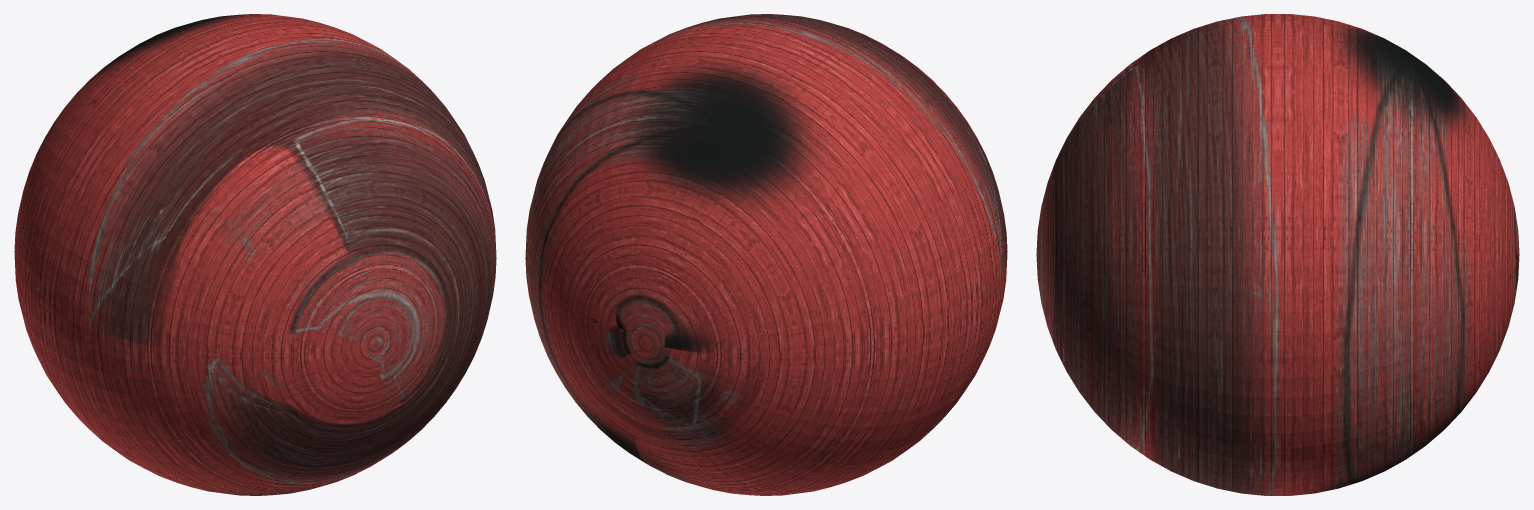
File: env_sphere.obj
The picture shows the model from 3 angles, left to right: view 1: azimuth 30°, elevation 25°; view 2: azimuth 150°, elevation 25°; view 3: azimuth 270°, elevation 25°; orthographic projection.
Bounding box in the file's own units: 2 × 2 × 2.
